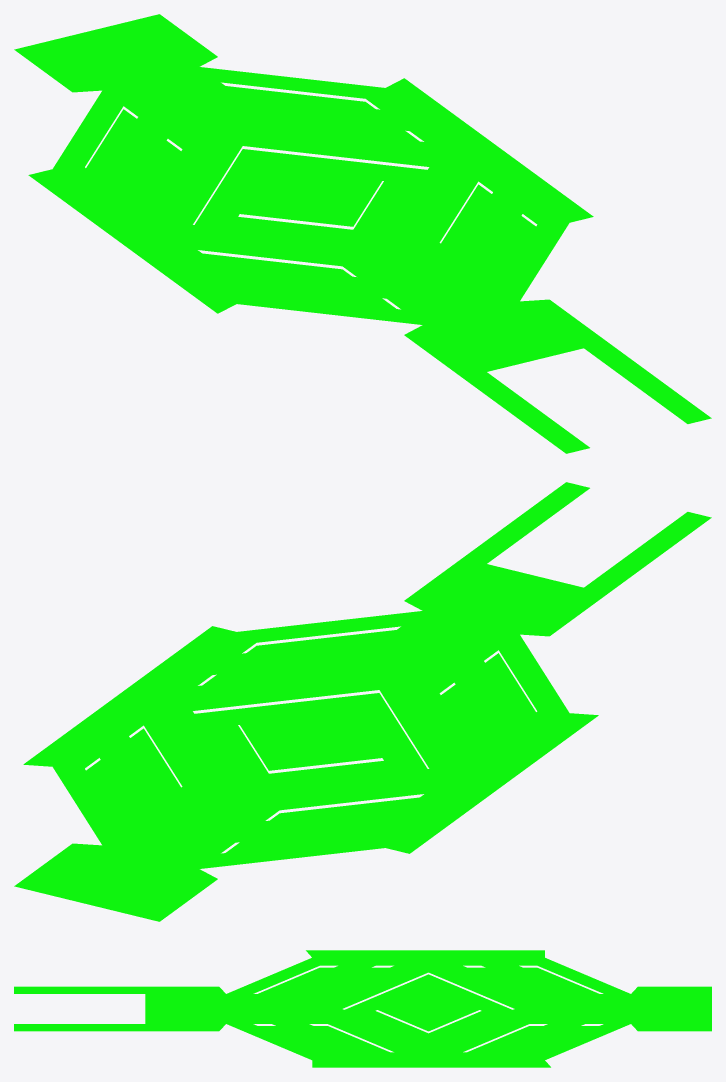
Rendered from s082_ib1-floor.glb.
3 views of the same model, one above another, from view 1: azimuth 30°, elevation 25°; view 2: azimuth 150°, elevation 25°; view 3: azimuth 270°, elevation 25° (orthographic). The views are drawn at different scales.
Parts seen in each view (by area): view 1: collision_floor-colonly; view 2: collision_floor-colonly; view 3: collision_floor-colonly.
Boxes of the visible parts, <box> form: collision_floor-colonly: <box>14,14,711,453</box>; collision_floor-colonly: <box>14,482,711,921</box>; collision_floor-colonly: <box>14,950,711,1067</box>.
Bounding box in the file's own units: 27.5 × 0.2031 × 68.96.
